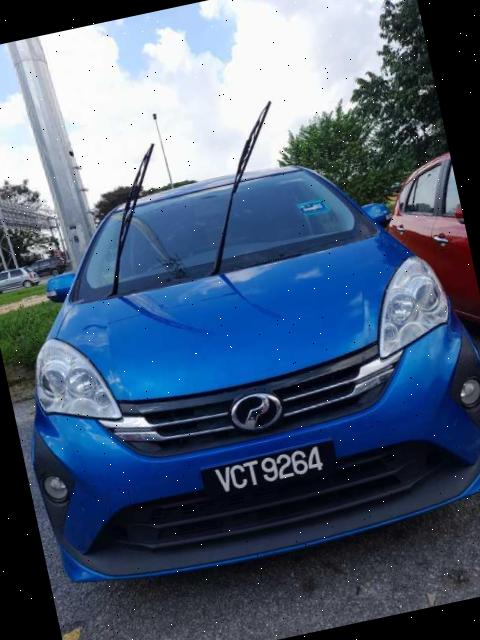License_Plate: (200, 437, 342, 504)
car: (1, 122, 480, 611)
